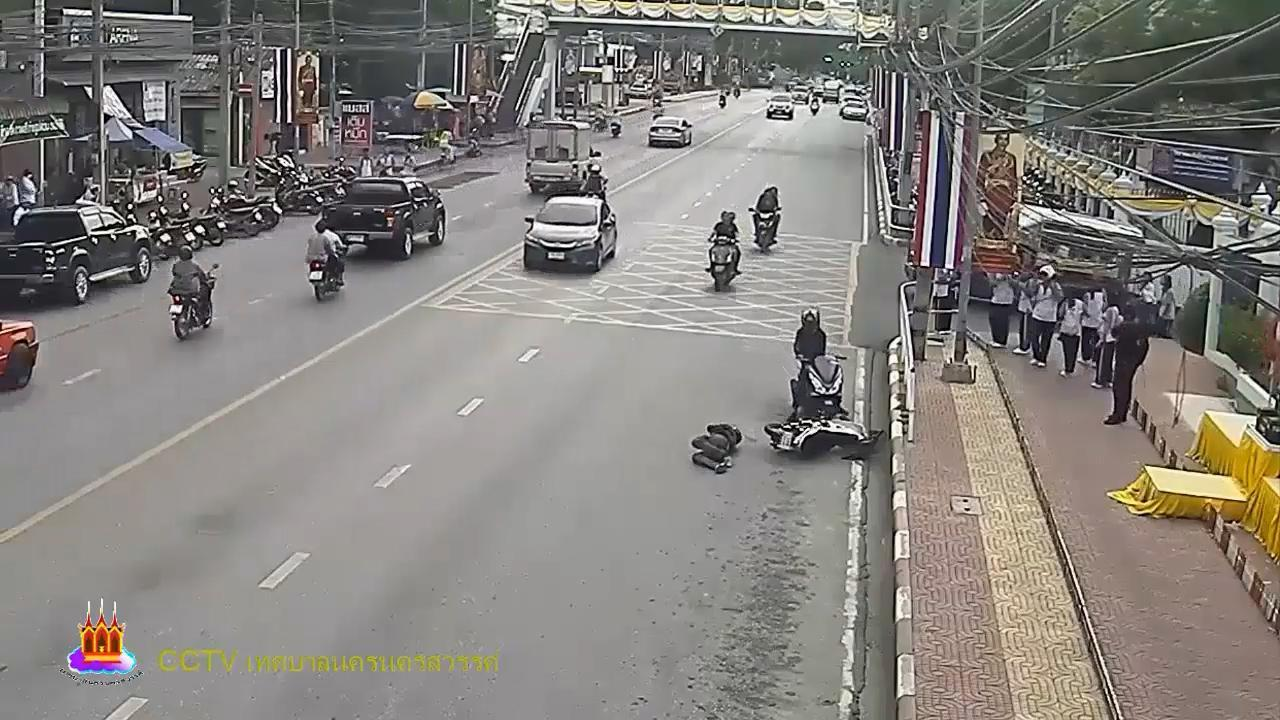accident: (692, 419, 742, 481)
